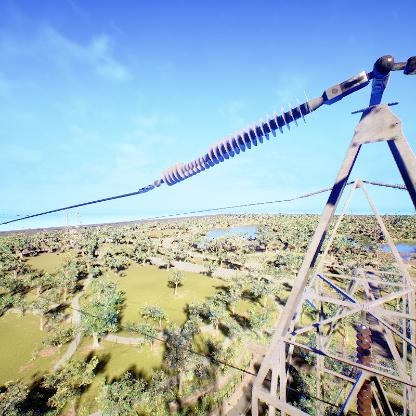insulator: (161, 91, 320, 190)
